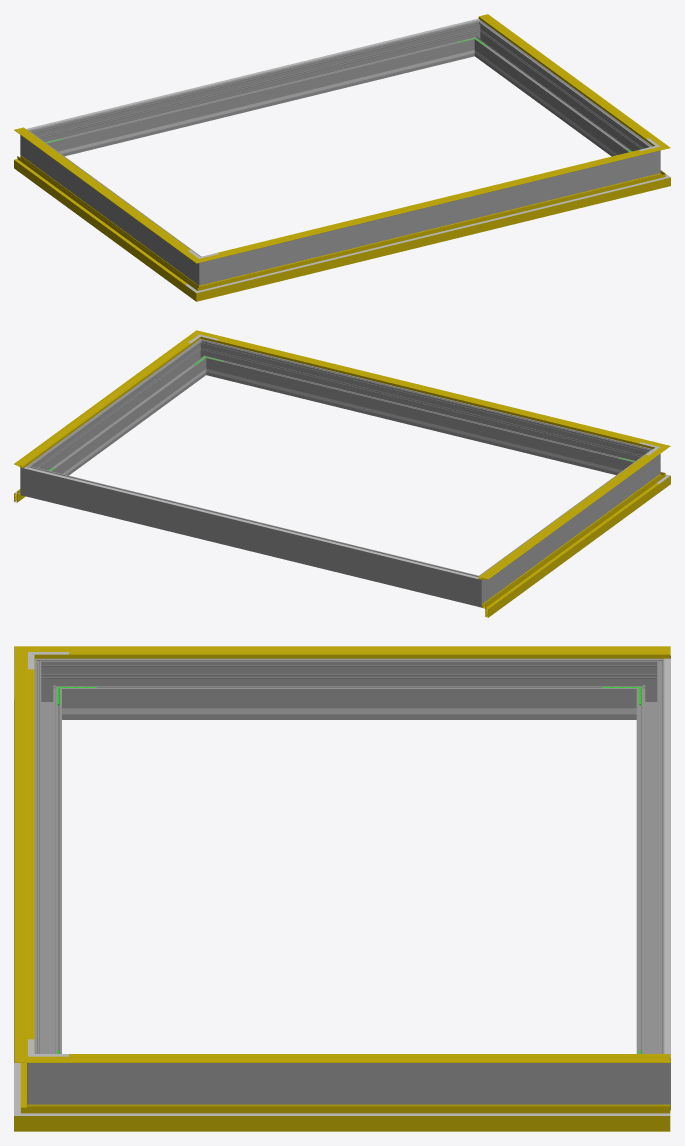
3 renders of one model, top to bottom at view 1: azimuth 30°, elevation 25°; view 2: azimuth 150°, elevation 25°; view 3: azimuth 270°, elevation 25°, orthographic. The views are drawn at different scales.
Parts seen in each view (by area): view 1: 3DGeom-276, 3DGeom-298, 3DGeom-90, 3DGeom-297, 3DGeom-268, 3DGeom-85, 3DGeom-141, 3DGeom-145, 3DGeom-244, 3DGeom-147, 3DGeom-220, 3DGeom-100 (+9 smaller); view 2: 3DGeom-298, 3DGeom-276, 3DGeom-297, 3DGeom-268, 3DGeom-141, 3DGeom-85, 3DGeom-145, 3DGeom-239, 3DGeom-147, 3DGeom-220, 3DGeom-158, 3DGeom-278 (+6 smaller); view 3: 3DGeom-268, 3DGeom-297, 3DGeom-97, 3DGeom-276, 3DGeom-298, 3DGeom-147, 3DGeom-141, 3DGeom-145, 3DGeom-232, 3DGeom-220, 3DGeom-158, 3DGeom-98 (+7 smaller).
Boxes of the visible parts, x1=… form: 3DGeom-276: x1=42, y1=24, x2=471, y2=156; 3DGeom-298: x1=219, y1=155, x2=640, y2=280; 3DGeom-90: x1=212, y1=176, x2=651, y2=296; 3DGeom-297: x1=476, y1=27, x2=645, y2=156; 3DGeom-268: x1=31, y1=137, x2=193, y2=276; 3DGeom-85: x1=14, y1=155, x2=191, y2=293; 3DGeom-141: x1=213, y1=150, x2=650, y2=258; 3DGeom-145: x1=478, y1=14, x2=658, y2=143; 3DGeom-244: x1=65, y1=54, x2=455, y2=152; 3DGeom-147: x1=14, y1=128, x2=190, y2=254; 3DGeom-220: x1=26, y1=18, x2=479, y2=130; 3DGeom-100: x1=214, y1=181, x2=650, y2=288; 3DGeom-298: x1=209, y1=343, x2=638, y2=474; 3DGeom-276: x1=40, y1=469, x2=465, y2=602; 3DGeom-297: x1=35, y1=346, x2=204, y2=475; 3DGeom-268: x1=487, y1=456, x2=649, y2=595; 3DGeom-141: x1=210, y1=335, x2=650, y2=446; 3DGeom-85: x1=482, y1=479, x2=659, y2=617; 3DGeom-145: x1=14, y1=338, x2=194, y2=468; 3DGeom-239: x1=225, y1=373, x2=615, y2=471; 3DGeom-147: x1=478, y1=452, x2=658, y2=579; 3DGeom-220: x1=24, y1=467, x2=478, y2=579; 3DGeom-158: x1=217, y1=339, x2=640, y2=443; 3DGeom-278: x1=462, y1=570, x2=493, y2=607; 3DGeom-268: x1=68, y1=658, x2=629, y2=719; 3DGeom-297: x1=68, y1=1063, x2=629, y2=1104; 3DGeom-97: x1=55, y1=1104, x2=670, y2=1131; 3DGeom-276: x1=636, y1=673, x2=664, y2=1053; 3DGeom-298: x1=34, y1=673, x2=61, y2=1053; 3DGeom-147: x1=55, y1=646, x2=670, y2=658; 3DGeom-141: x1=14, y1=663, x2=34, y2=1044; 3DGeom-145: x1=55, y1=1056, x2=670, y2=1062; 3DGeom-232: x1=101, y1=708, x2=596, y2=713; 3DGeom-220: x1=664, y1=658, x2=670, y2=1057; 3DGeom-158: x1=28, y1=669, x2=34, y2=1039; 3DGeom-98: x1=55, y1=1113, x2=670, y2=1115.
Size of the model in its own units: 3.66 by 0.2829 by 2.44.
